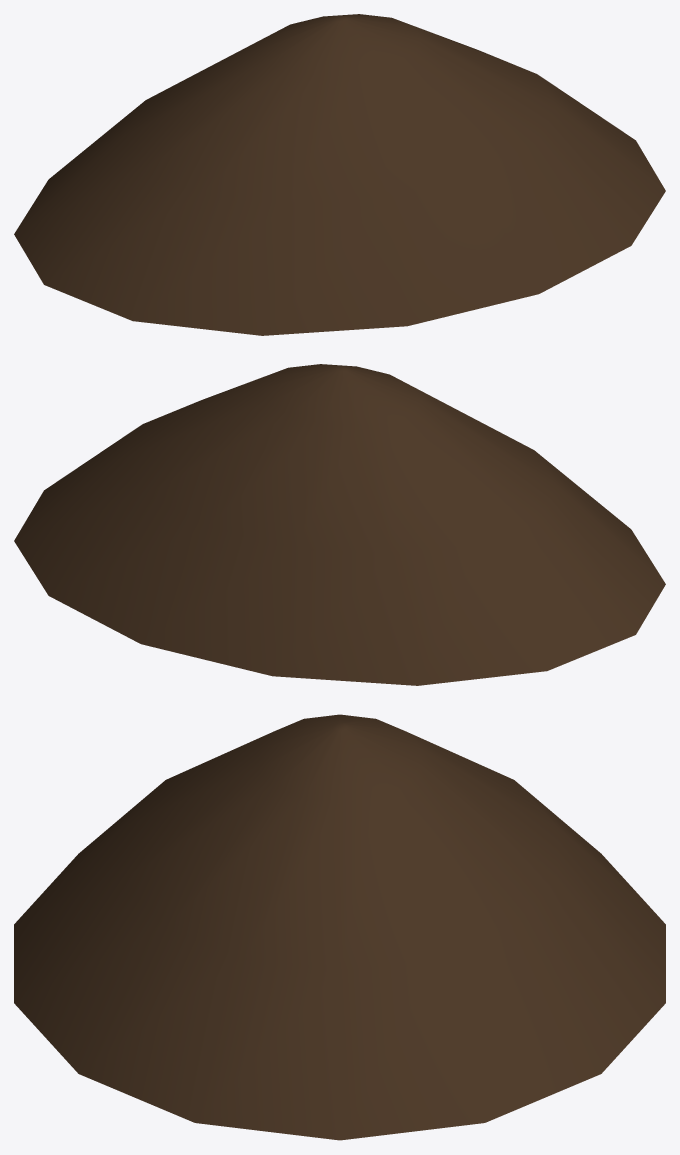
File: plant.store.spoil.glb
3 views of the same model, one above another, from view 1: azimuth 30°, elevation 25°; view 2: azimuth 150°, elevation 25°; view 3: azimuth 270°, elevation 25° (orthographic). The views are drawn at different scales.
Parts seen in each view (by area): view 1: main__soil; view 2: main__soil; view 3: main__soil.
Boxes of the visible parts, x1,y1,x2,y2 form: main__soil: (14,14,665,335); main__soil: (14,364,665,685); main__soil: (14,714,665,1140).
Size of the model in its own units: 4.8 by 1.5 by 3.74.
